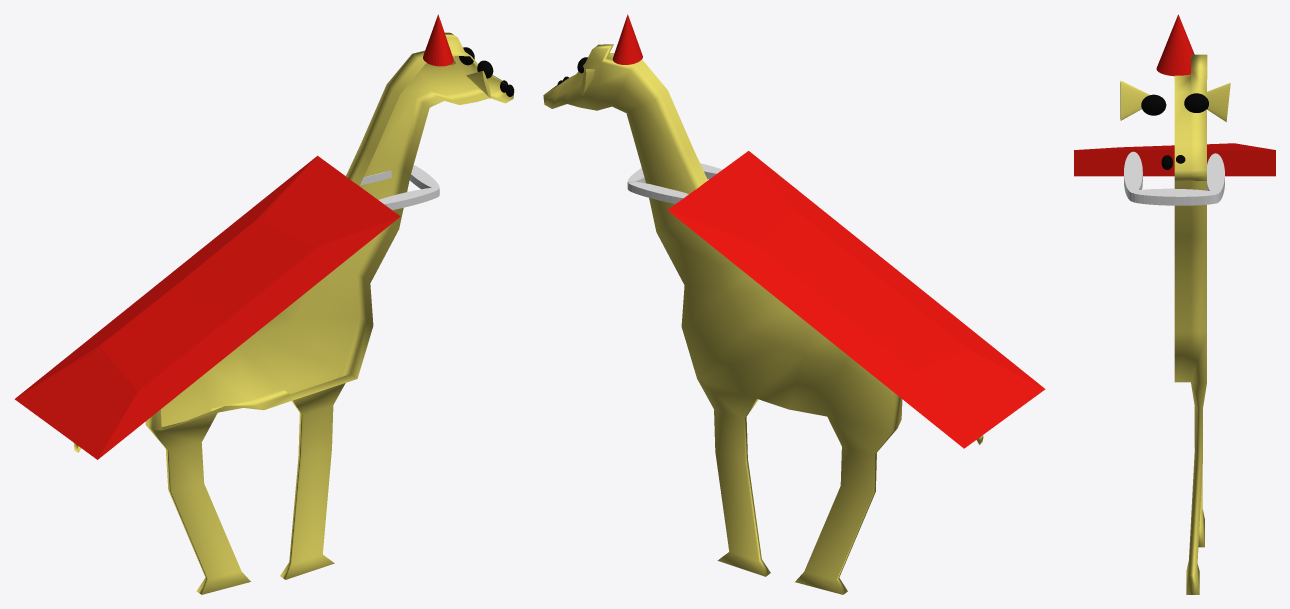
The model's file is held.glb.
3 views of the same model, side by side, from view 1: azimuth 30°, elevation 25°; view 2: azimuth 150°, elevation 25°; view 3: azimuth 270°, elevation 25° (orthographic). The views are drawn at different scales.
Parts seen in each view (by area): view 1: Plane.001, Cube, Cone.002, Cylinder.001; view 2: Plane.001, Cube, Cone.002, Cylinder.002; view 3: Plane.001, Cube, Cone.002, Cylinder, Cylinder.001, Cone, Cylinder.002, Cone.001, Sphere, Sphere.001.
Part boxes in pixels (box(x1,y1,x2,y2)): Plane.001: box(74, 32, 514, 594); Cube: box(14, 155, 400, 459); Cone.002: box(423, 14, 453, 66); Cylinder.001: box(378, 187, 439, 209); Plane.001: box(543, 44, 983, 594); Cube: box(667, 151, 1045, 448); Cone.002: box(612, 14, 642, 64); Cylinder.002: box(628, 182, 688, 203); Plane.001: box(1174, 54, 1207, 594); Cube: box(1074, 143, 1275, 176); Cone.002: box(1156, 14, 1194, 76); Cylinder: box(1132, 188, 1217, 205); Cylinder.001: box(1124, 151, 1142, 201); Cone: box(1120, 80, 1149, 120); Cylinder.002: box(1207, 153, 1224, 203); Cone.001: box(1207, 83, 1230, 121); Sphere: box(1141, 94, 1166, 115); Sphere.001: box(1184, 93, 1208, 112).
Size of the model in its own units: 2.23 by 2.47 by 0.7003.
